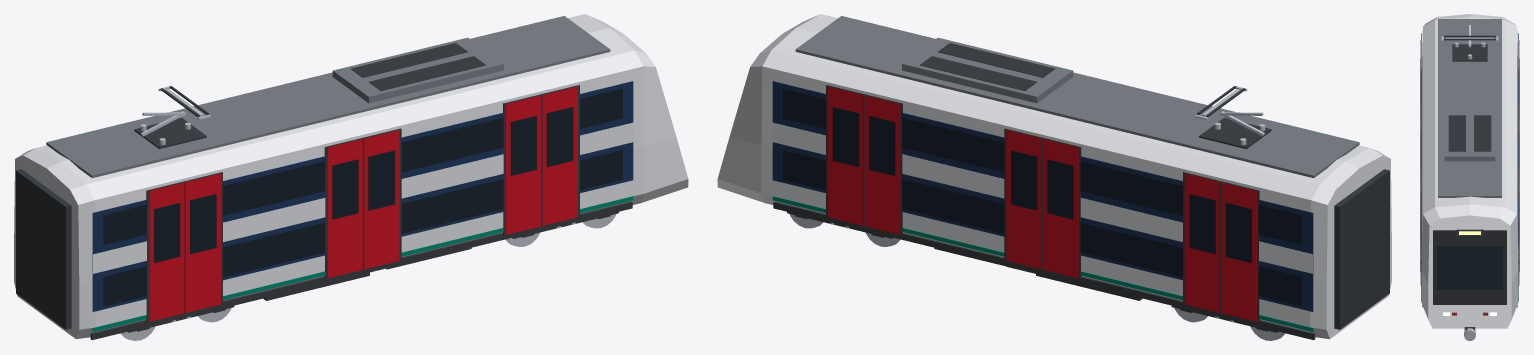
The model's file is rer_a_mi09__cab.glb.
3 views of the same model, side by side, from view 1: azimuth 30°, elevation 25°; view 2: azimuth 150°, elevation 25°; view 3: azimuth 270°, elevation 25° (orthographic). The views are drawn at different scales.
Visible parts, largest first — view 1: rer_a_mi09_cab; view 2: rer_a_mi09_cab; view 3: rer_a_mi09_cab.
Boxes of the visible parts, box(x1,y1,x2,y2) form: rer_a_mi09_cab: box(14, 14, 688, 340); rer_a_mi09_cab: box(717, 14, 1391, 340); rer_a_mi09_cab: box(1420, 14, 1519, 340).
Size of the model in its own units: 15.37 by 4.88 by 2.97.
